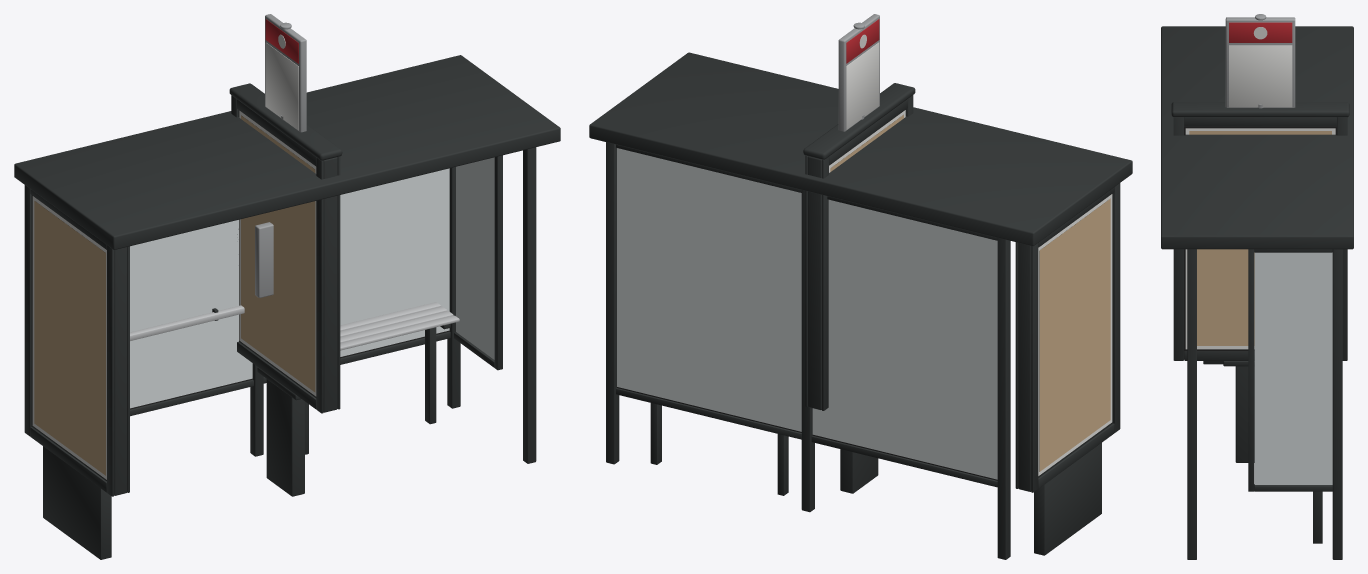
File: stibstops.glb
The picture shows the model from 3 angles, left to right: view 1: azimuth 30°, elevation 25°; view 2: azimuth 150°, elevation 25°; view 3: azimuth 270°, elevation 25°; orthographic projection. The views are drawn at different scales.
Parts seen in each view (by area): view 1: shelter, shelter__glass, shelter__poster, adpanel, adpanel__poster, pole; view 2: shelter__glass, shelter, shelter__poster, adpanel, pole; view 3: shelter, shelter__glass, adpanel, pole, adpanel__poster.
Boxes of the visible parts, x1=… form: shelter: x1=14, y1=55, x2=560, y2=559; shelter__glass: x1=130, y1=157, x2=494, y2=408; shelter__poster: x1=34, y1=201, x2=105, y2=475; adpanel: x1=229, y1=83, x2=342, y2=496; adpanel__poster: x1=241, y1=115, x2=315, y2=392; pole: x1=255, y1=14, x2=306, y2=297; shelter__glass: x1=617, y1=148, x2=997, y2=479; shelter: x1=589, y1=52, x2=1132, y2=559; shelter__poster: x1=1039, y1=199, x2=1110, y2=471; adpanel: x1=803, y1=83, x2=915, y2=493; pole: x1=838, y1=14, x2=879, y2=131; shelter: x1=1161, y1=26, x2=1353, y2=559; shelter__glass: x1=1254, y1=252, x2=1332, y2=484; adpanel: x1=1171, y1=102, x2=1349, y2=462; pole: x1=1225, y1=14, x2=1295, y2=108; adpanel__poster: x1=1189, y1=131, x2=1331, y2=345.
Bounding box in the file's own units: 4 × 3.94 × 1.55.
